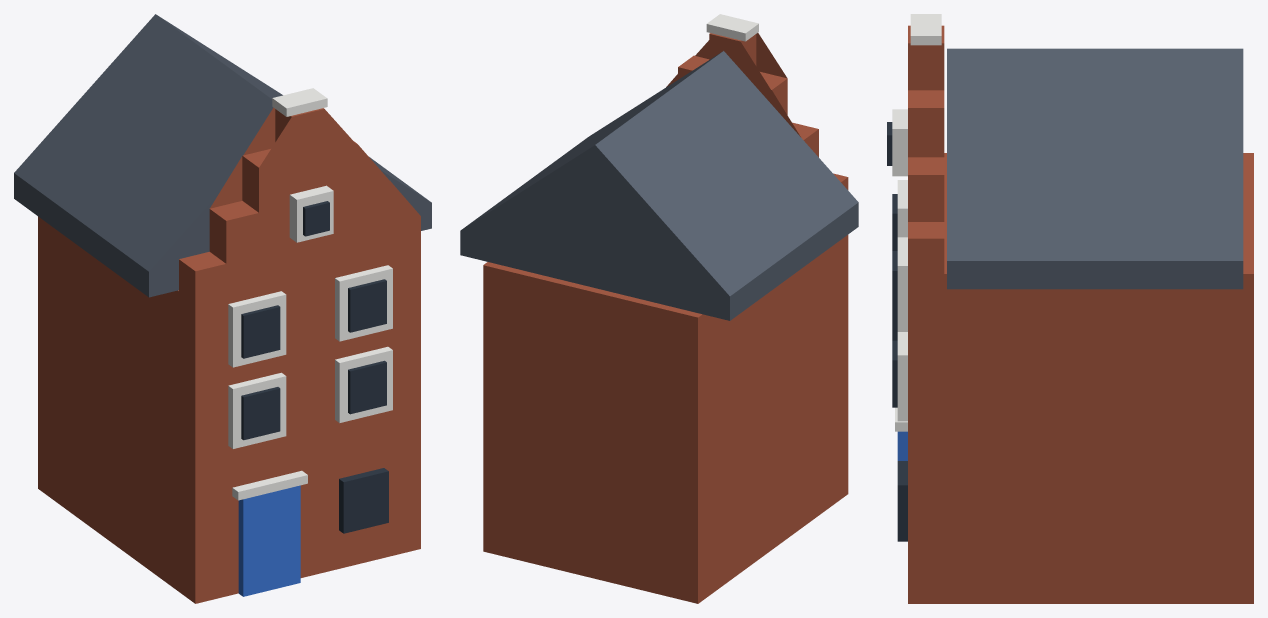
File: house_3_b.glb
3 renders of one model, left to right at view 1: azimuth 30°, elevation 25°; view 2: azimuth 150°, elevation 25°; view 3: azimuth 270°, elevation 25°, orthographic. The views are drawn at different scales.
Visible parts, largest first — view 1: house_3_b; view 2: house_3_b; view 3: house_3_b.
Boxes of the visible parts, x1,y1,x2,y2 form: house_3_b: [14, 14, 431, 603]; house_3_b: [460, 14, 858, 603]; house_3_b: [887, 14, 1253, 603].
Bounding box in the file's own units: 0.138 × 0.22 × 0.141.
